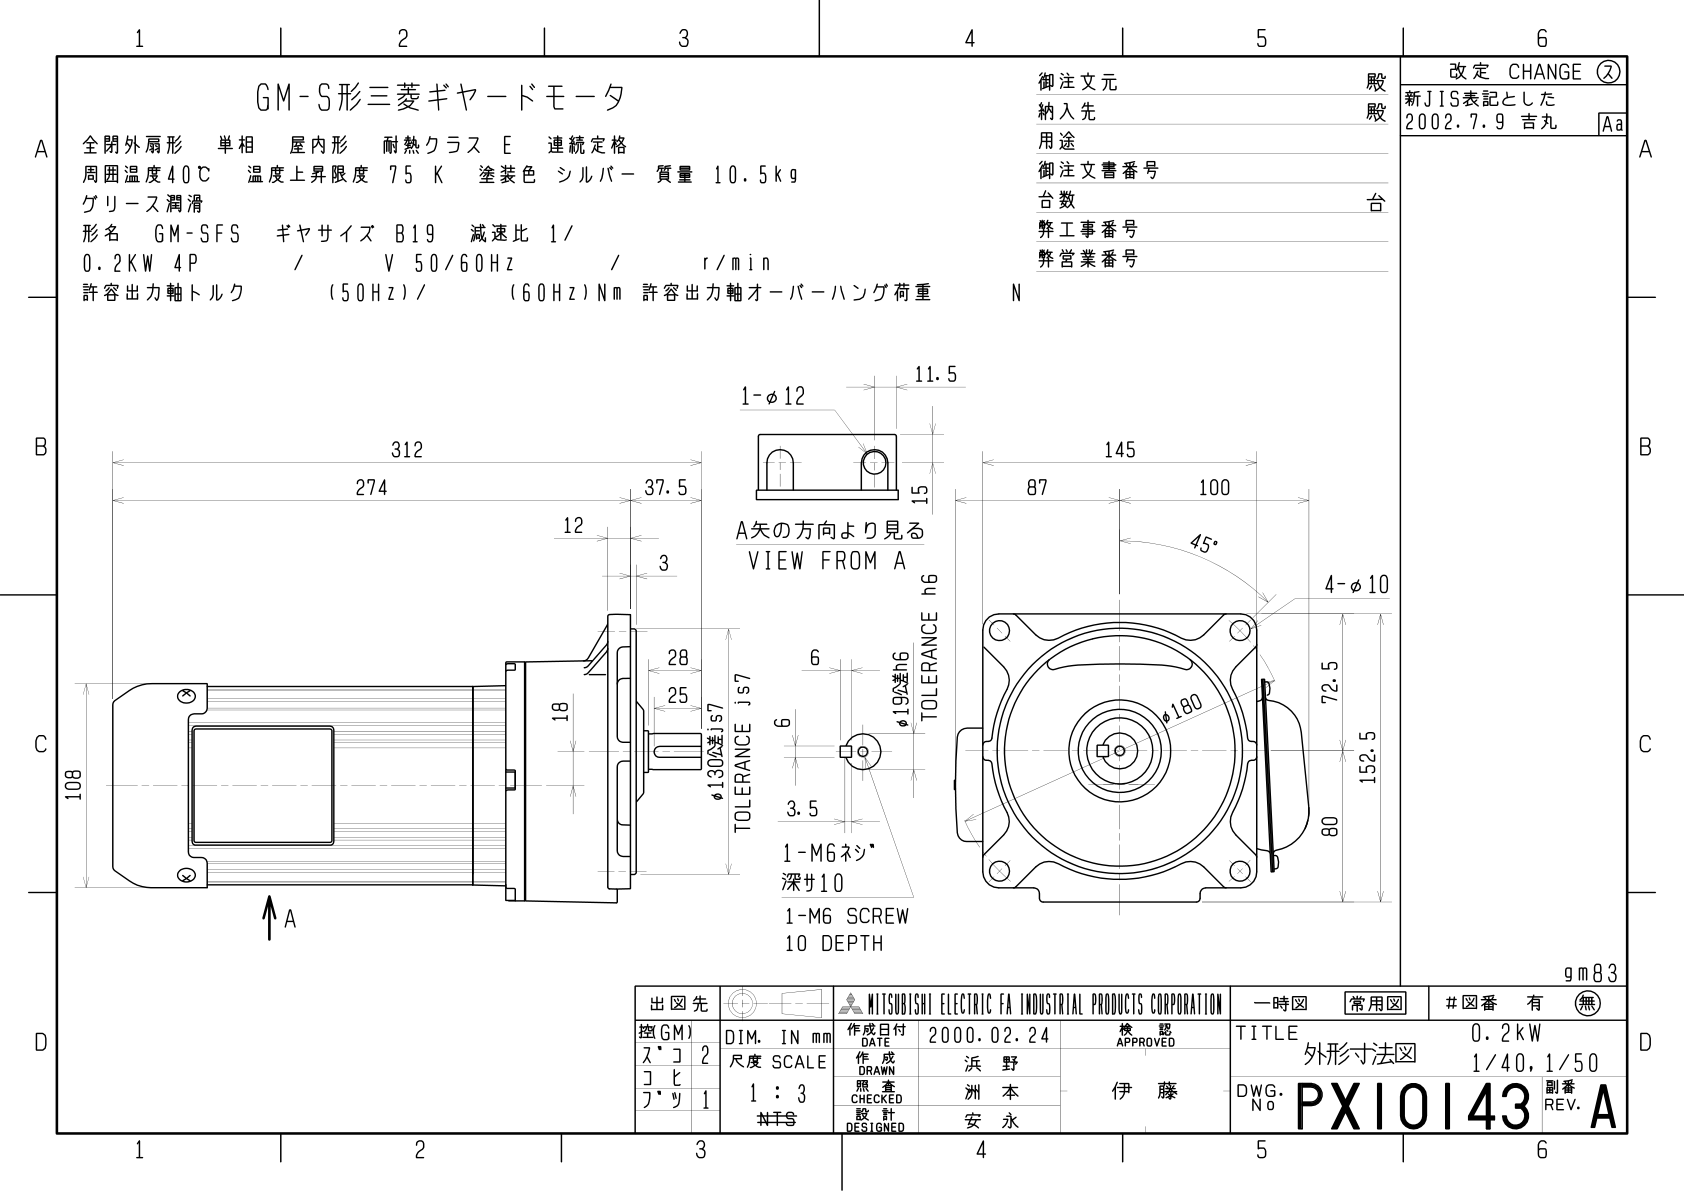GM_S_屋内＿単相_フランジ: (64, 336, 1395, 973)
